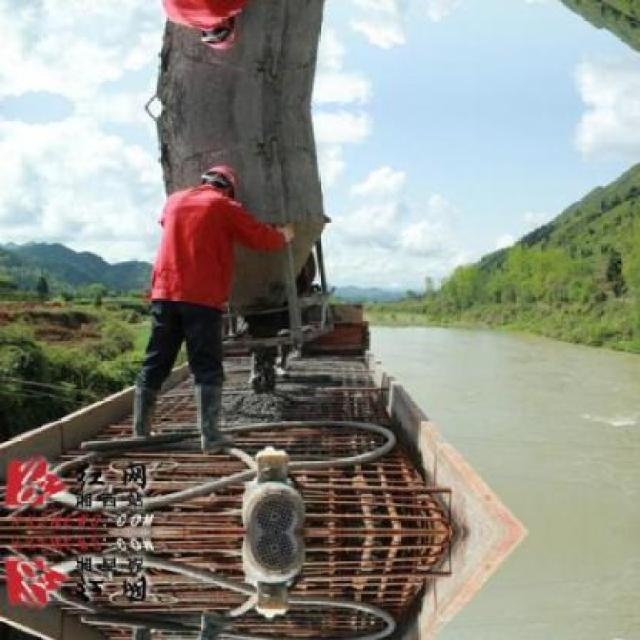helmet: (200, 14, 240, 51), (200, 162, 240, 198)
